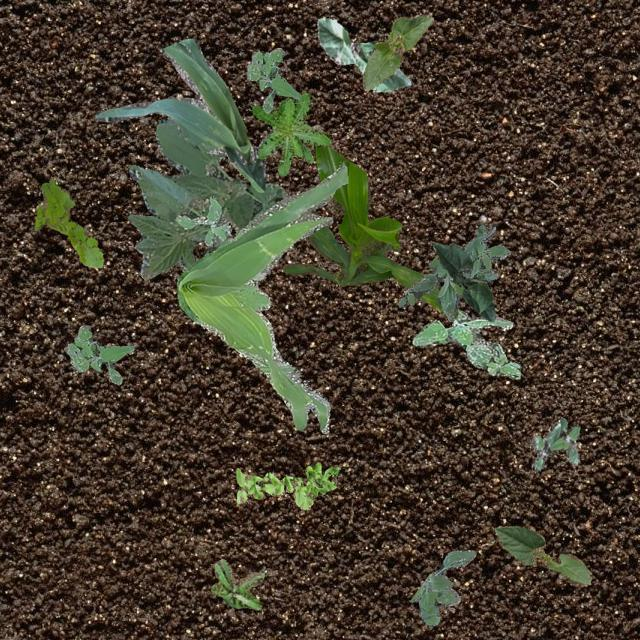crop: (272, 144, 446, 316), (93, 37, 264, 192), (126, 115, 286, 278), (316, 18, 410, 90), (492, 524, 592, 586), (362, 12, 432, 90), (432, 242, 494, 321)
weed: (176, 162, 347, 432), (398, 224, 510, 320), (412, 308, 520, 378), (250, 90, 330, 176), (32, 178, 102, 266), (408, 548, 474, 624), (235, 462, 338, 508), (64, 324, 134, 384), (247, 46, 300, 112), (173, 194, 230, 244), (210, 558, 264, 608), (530, 416, 578, 471)
